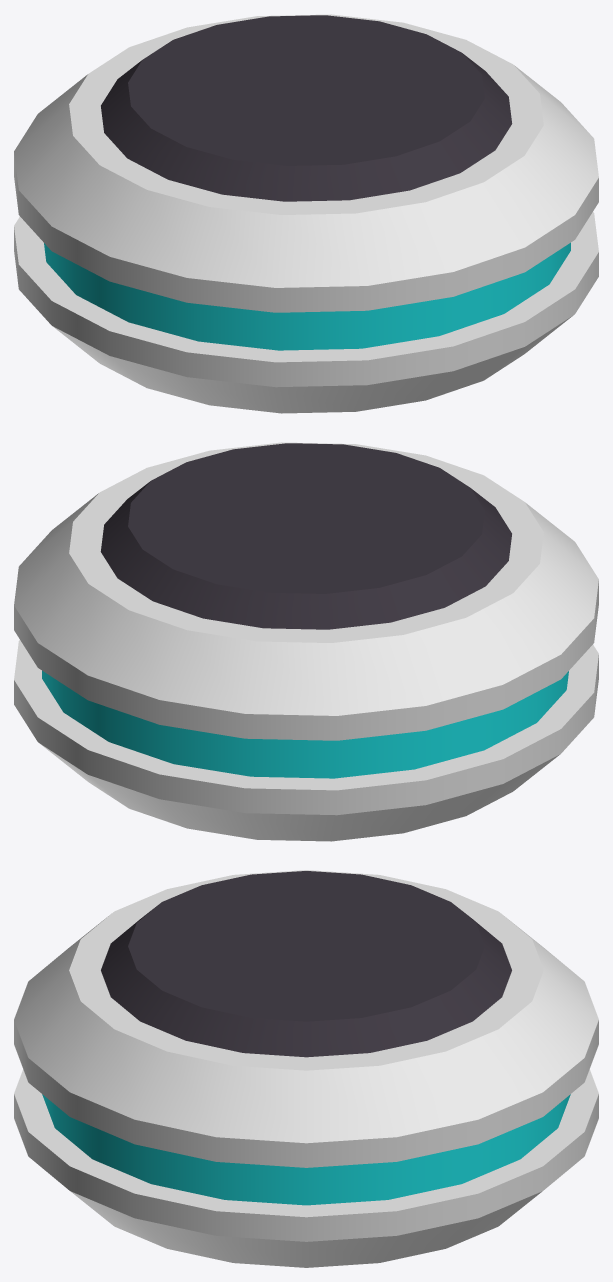
File: Robot.fbx
3 renders of one model, top to bottom at view 1: azimuth 30°, elevation 25°; view 2: azimuth 150°, elevation 25°; view 3: azimuth 270°, elevation 25°, orthographic.
Parts seen in each view (by area): view 1: Robot; view 2: Robot; view 3: Robot.
Boxes of the visible parts, x1=… form: Robot: x1=14, y1=14, x2=598, y2=413; Robot: x1=14, y1=442, x2=598, y2=841; Robot: x1=14, y1=870, x2=598, y2=1267.
Size of the model in its own units: 129 by 59.79 by 129.
